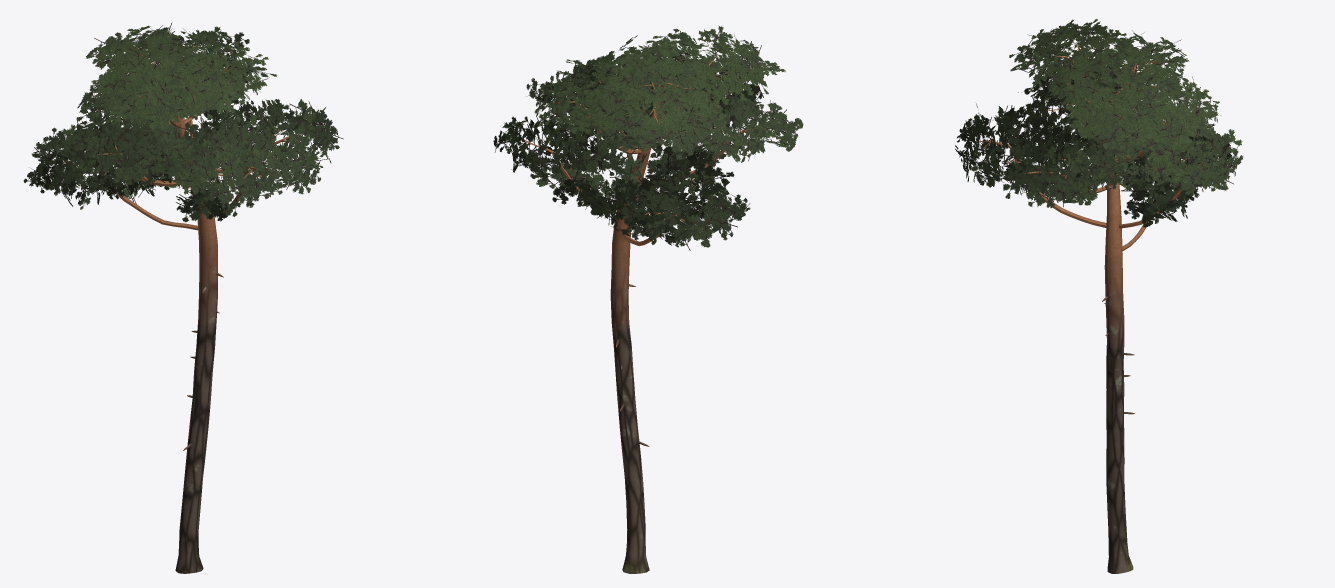
File: pine.glb
3 views of the same model, side by side, from view 1: azimuth 30°, elevation 25°; view 2: azimuth 150°, elevation 25°; view 3: azimuth 270°, elevation 25° (orthographic). The views are drawn at different scales.
Parts seen in each view (by area): view 1: pine_cards_LOD0, pine_LOD0; view 2: pine_cards_LOD0, pine_LOD0; view 3: pine_cards_LOD0, pine_LOD0.
Boxes of the visible parts, bbox=[...] form: pine_cards_LOD0: bbox=[23, 23, 343, 222]; pine_LOD0: bbox=[63, 44, 301, 573]; pine_cards_LOD0: bbox=[493, 25, 803, 250]; pine_LOD0: bbox=[524, 55, 765, 573]; pine_cards_LOD0: bbox=[955, 19, 1243, 227]; pine_LOD0: bbox=[979, 45, 1202, 573].
Size of what is drawn, in the model's own units: 12.43 by 21.07 by 14.64.
Materials: 2 (2 with a texture image).
